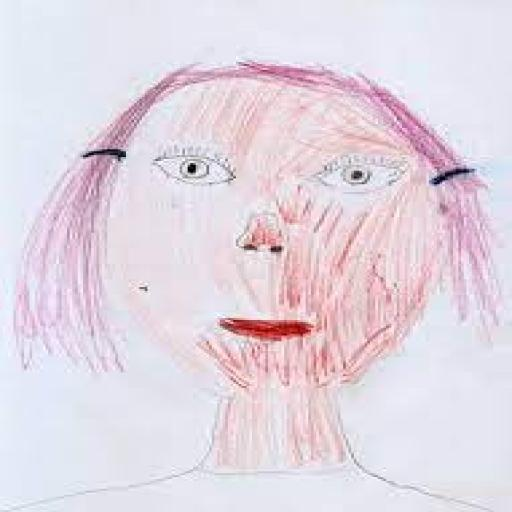person: (3, 55, 510, 510)
